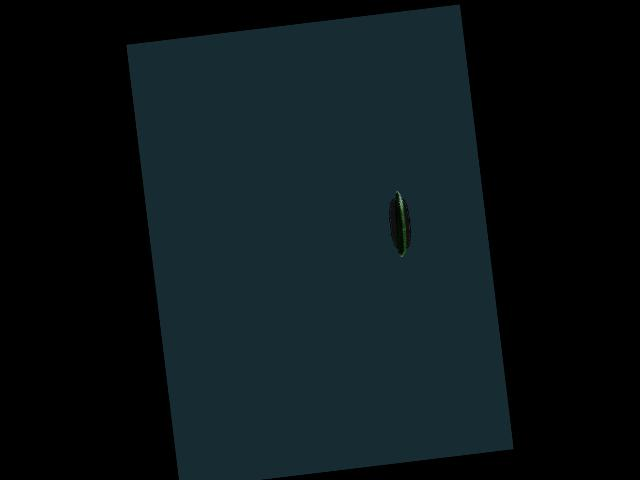cucumber: (390, 189, 409, 257)
